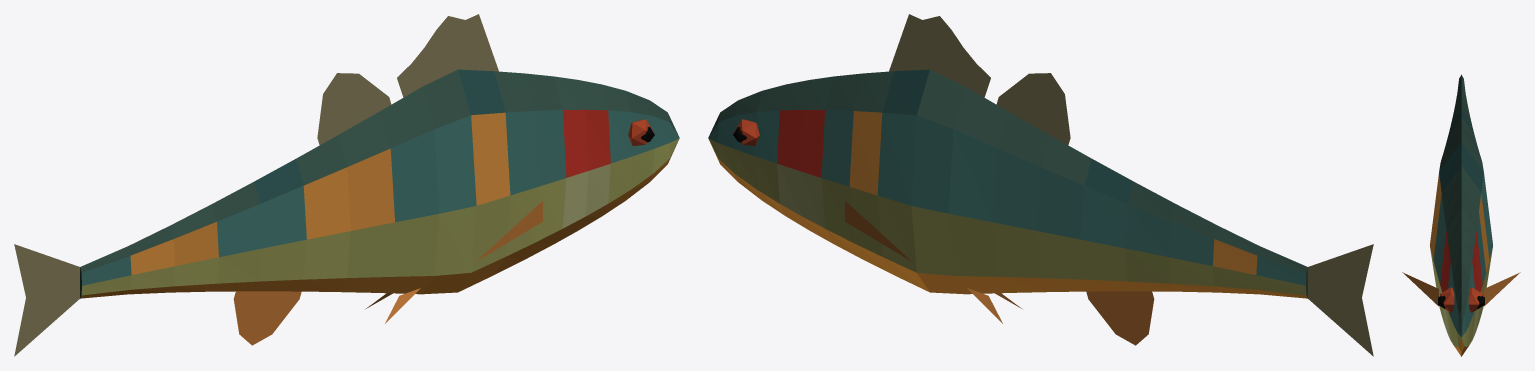
File: pumpkinseed.glb
The picture shows the model from 3 angles, left to right: view 1: azimuth 30°, elevation 25°; view 2: azimuth 150°, elevation 25°; view 3: azimuth 270°, elevation 25°; orthographic projection. The views are drawn at different scales.
Parts seen in each view (by area): view 1: pumpkinseed; view 2: pumpkinseed; view 3: pumpkinseed.
Part boxes in pixels (x1,y1,x2,y2): pumpkinseed: (14, 14, 679, 356); pumpkinseed: (708, 14, 1373, 356); pumpkinseed: (1402, 74, 1520, 356).
Size of the model in its own units: 1.11 by 0.4517 by 0.2023.
